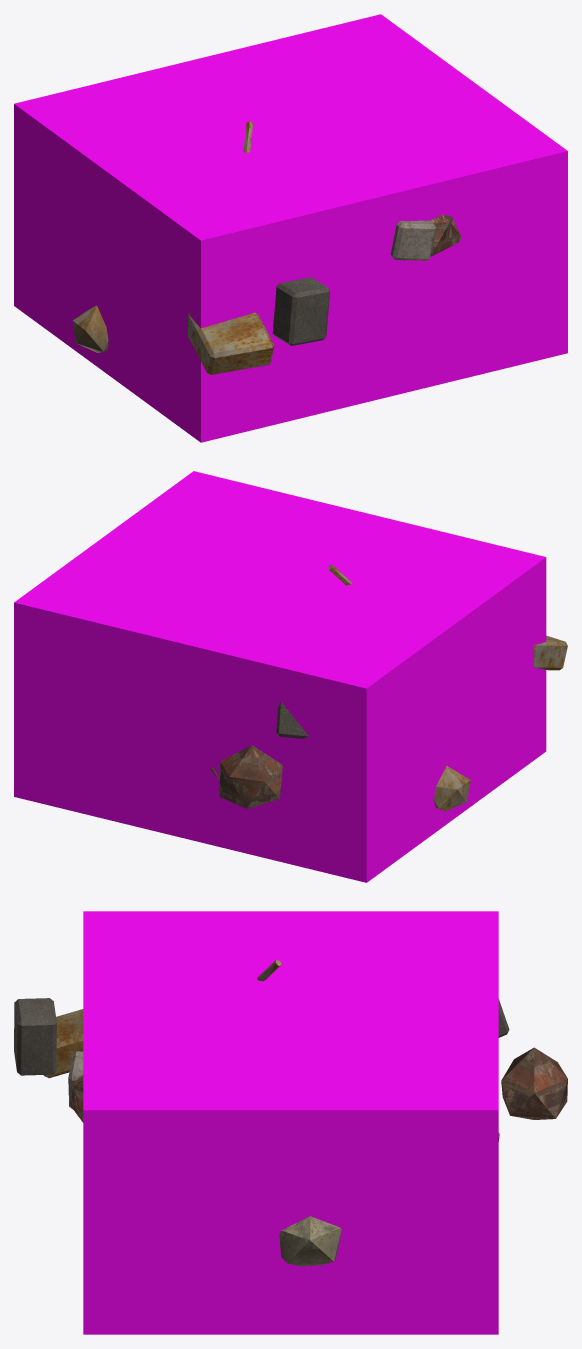
The model's file is prop_rubble_medium.glb.
3 renders of one model, top to bottom at view 1: azimuth 30°, elevation 25°; view 2: azimuth 150°, elevation 25°; view 3: azimuth 270°, elevation 25°, orthographic. The views are drawn at different scales.
Parts seen in each view (by area): view 1: prop_rubble_medium-col, Rubble; view 2: prop_rubble_medium-col, Rubble; view 3: prop_rubble_medium-col, Rubble.
Boxes of the visible parts, x1,y1,x2,y2 form: prop_rubble_medium-col: [14, 14, 567, 442]; Rubble: [72, 121, 461, 374]; prop_rubble_medium-col: [14, 471, 546, 882]; Rubble: [211, 565, 567, 811]; prop_rubble_medium-col: [83, 911, 498, 1334]; Rubble: [14, 960, 567, 1266].
Bounding box in the file's own units: 1.06 × 0.5563 × 1.12.
Materials: 2 (1 with a texture image).
